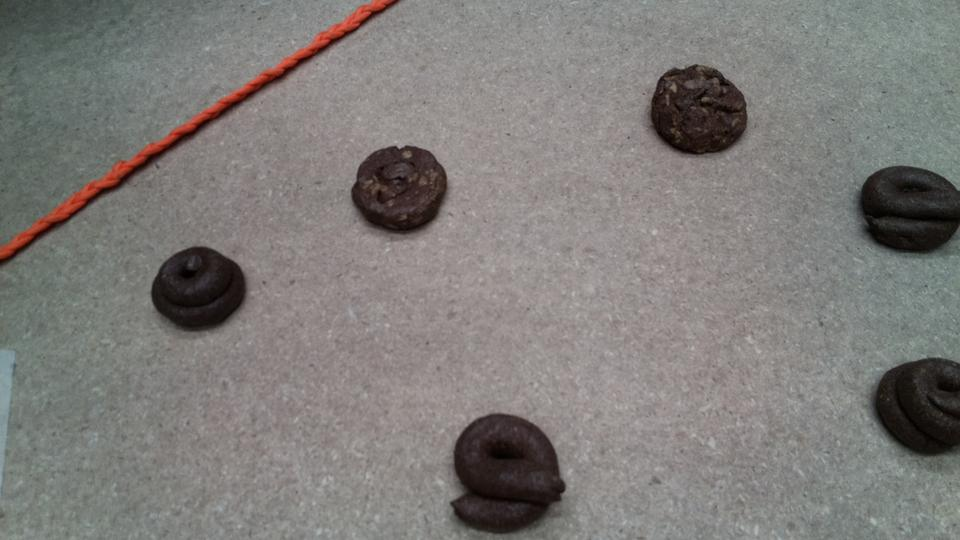poop: (441, 410, 571, 533), (644, 60, 756, 162), (352, 143, 458, 240), (857, 156, 960, 255), (865, 354, 960, 455), (151, 243, 251, 335)
rope: (268, 2, 404, 68), (220, 56, 332, 122), (1, 195, 100, 269), (142, 98, 243, 169), (83, 146, 173, 214)
